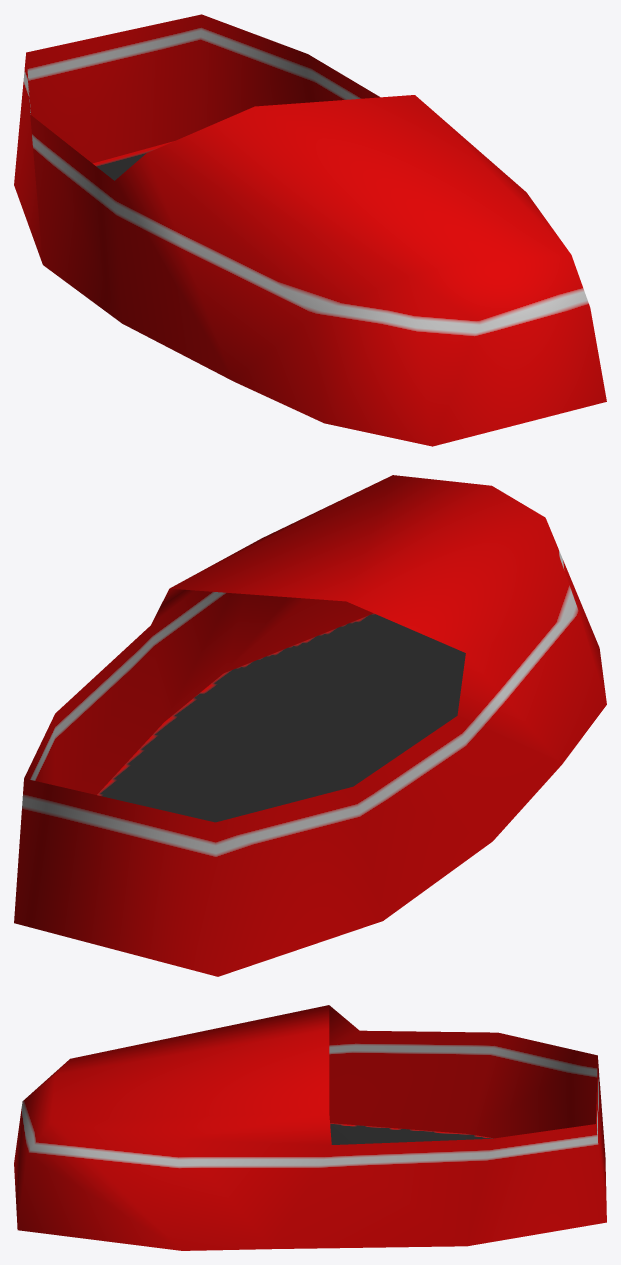
File: tapok.FBX
3 renders of one model, top to bottom at view 1: azimuth 30°, elevation 25°; view 2: azimuth 150°, elevation 25°; view 3: azimuth 270°, elevation 25°, orthographic. The views are drawn at different scales.
Parts seen in each view (by area): view 1: tapok; view 2: tapok; view 3: tapok.
Part boxes in pixels (x1=…): tapok: x1=14, y1=14, x2=606, y2=446; tapok: x1=14, y1=475, x2=606, y2=976; tapok: x1=14, y1=1005, x2=606, y2=1250.
Bounding box in the file's own units: 14.76 × 8.08 × 28.92.
